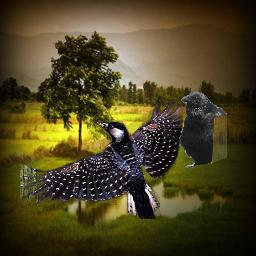Crow: (178, 91, 227, 168)
Woodpecker: (20, 99, 183, 219)
